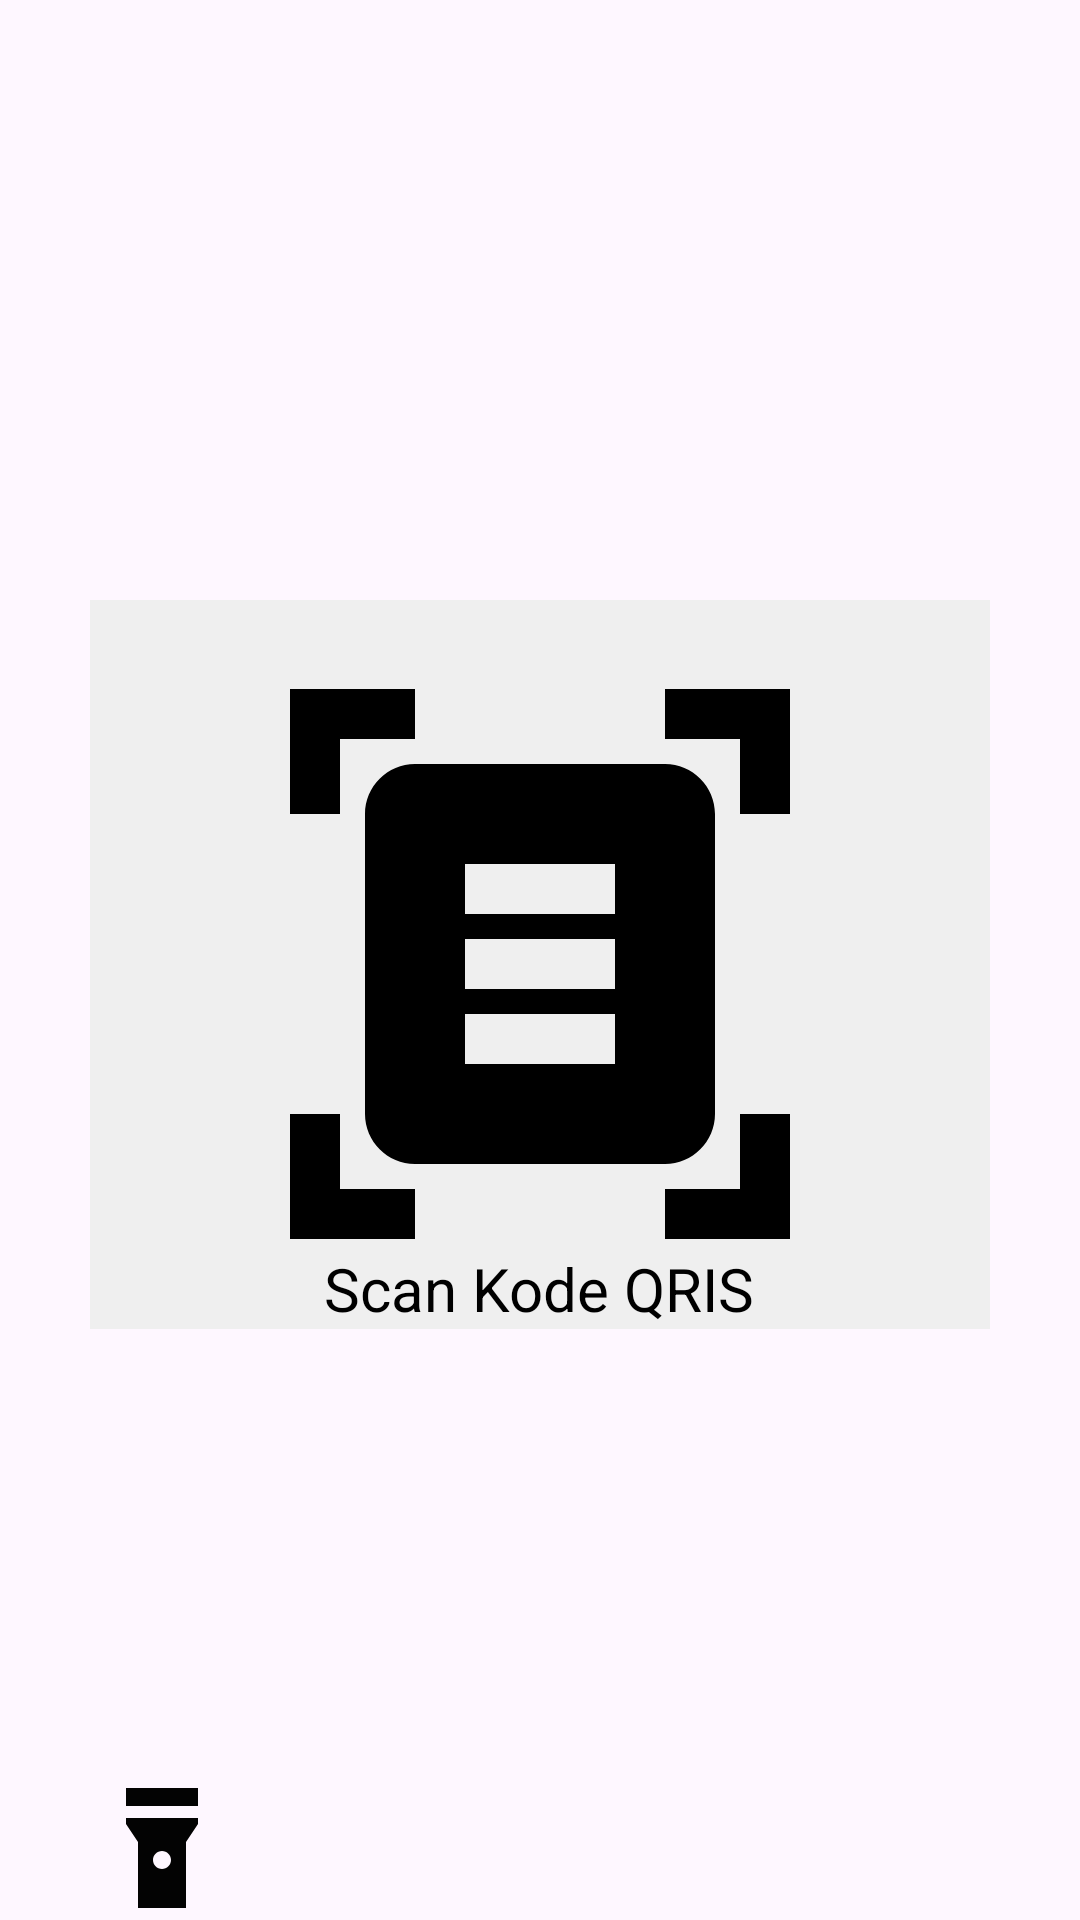

Locate icon controls on the screen. Image size 1080 x 1920, boxes as [x1=x1, y1=y1, x2=x2, y2=y2].
flashlight: [x1=126, y1=1788, x2=198, y2=1908]
